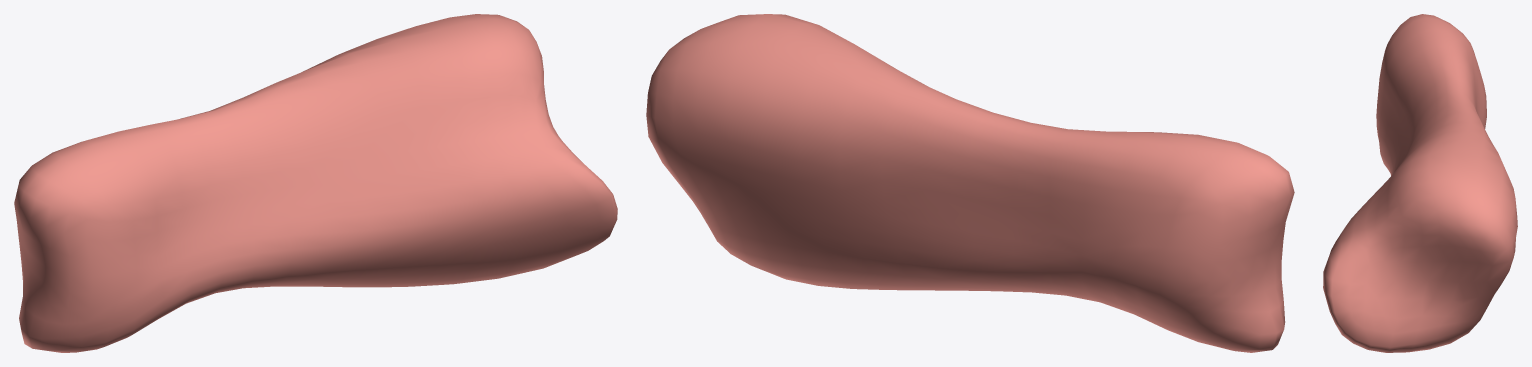
The model's file is mixamo_humanoid_surface_rightForeArm.fbx.
3 renders of one model, left to right at view 1: azimuth 30°, elevation 25°; view 2: azimuth 150°, elevation 25°; view 3: azimuth 270°, elevation 25°, orthographic. The views are drawn at different scales.
Visible parts, largest first — view 1: surface_RightForeArm; view 2: surface_RightForeArm; view 3: surface_RightForeArm.
Boxes of the visible parts, x1,y1,x2,y2 form: surface_RightForeArm: (14,14,617,352); surface_RightForeArm: (646,14,1294,352); surface_RightForeArm: (1323,14,1517,352).
Bounding box in the file's own units: 27.23 × 10.91 × 10.56.
